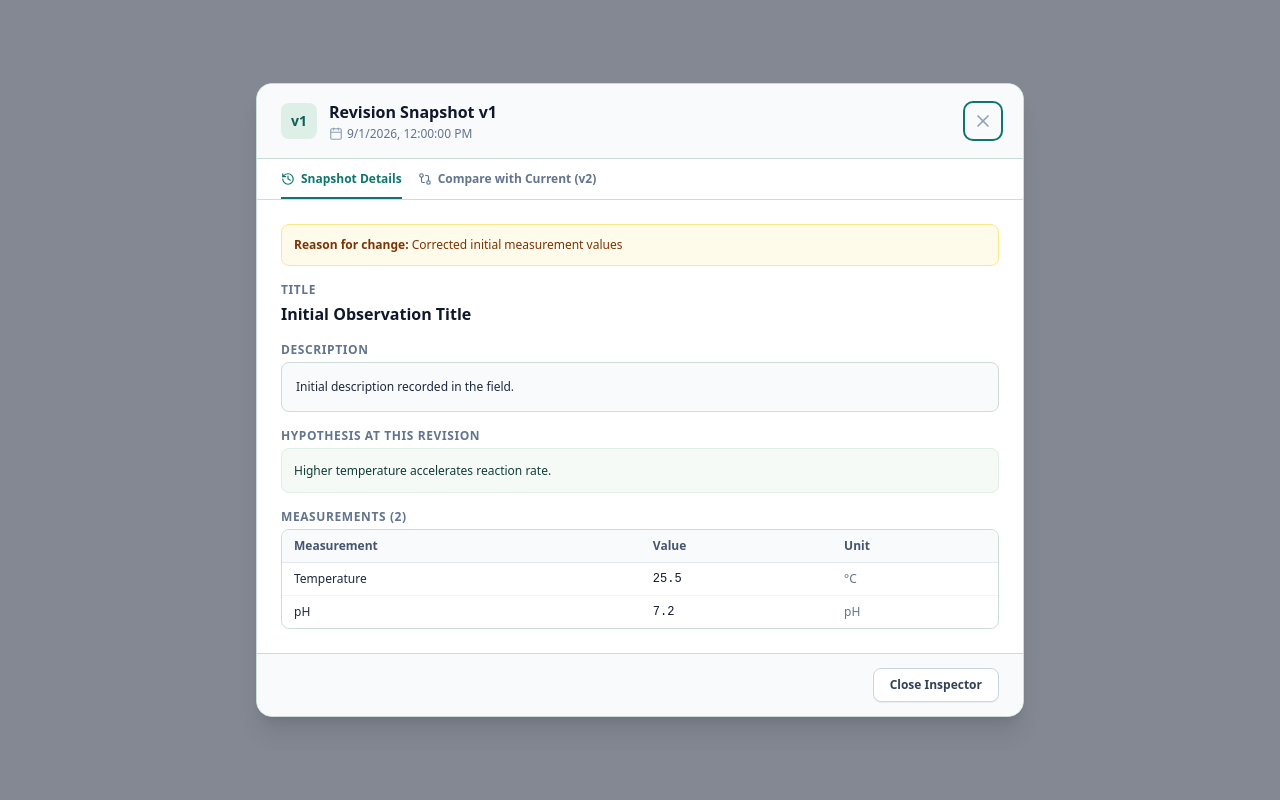
Test case: VersionSnapshotModal Component › switches to comparison tab and displays both historical and current states
The width and height of the screenshot is (1280, 800).
Click the button "Compare with Current (v2)".
click(507, 185)  # box [418, 171, 596, 199]
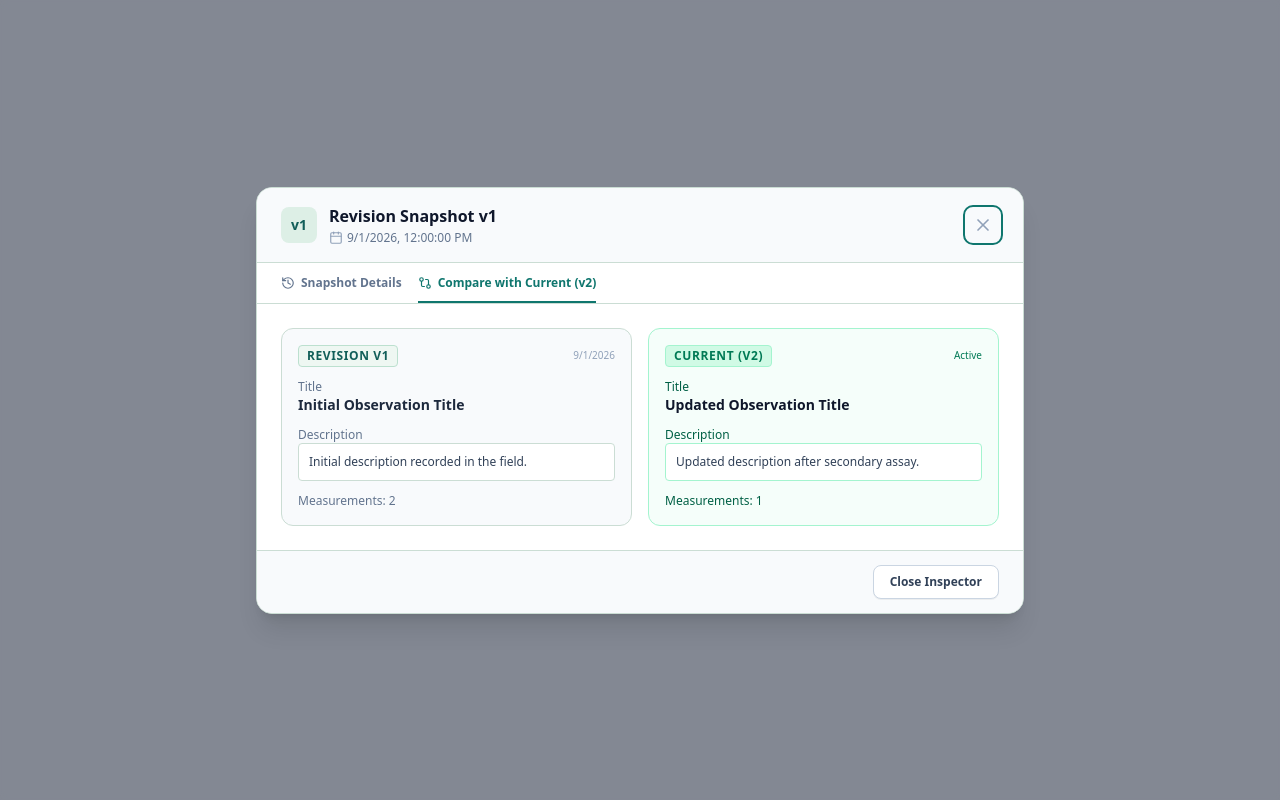
Expected: the text "Initial Observation Title" is shown, [298, 394, 464, 414]
Expected: the text "Current (v2)" is shown, [665, 344, 772, 366]
Expected: the text "Updated Observation Title" is shown, [665, 394, 850, 414]
